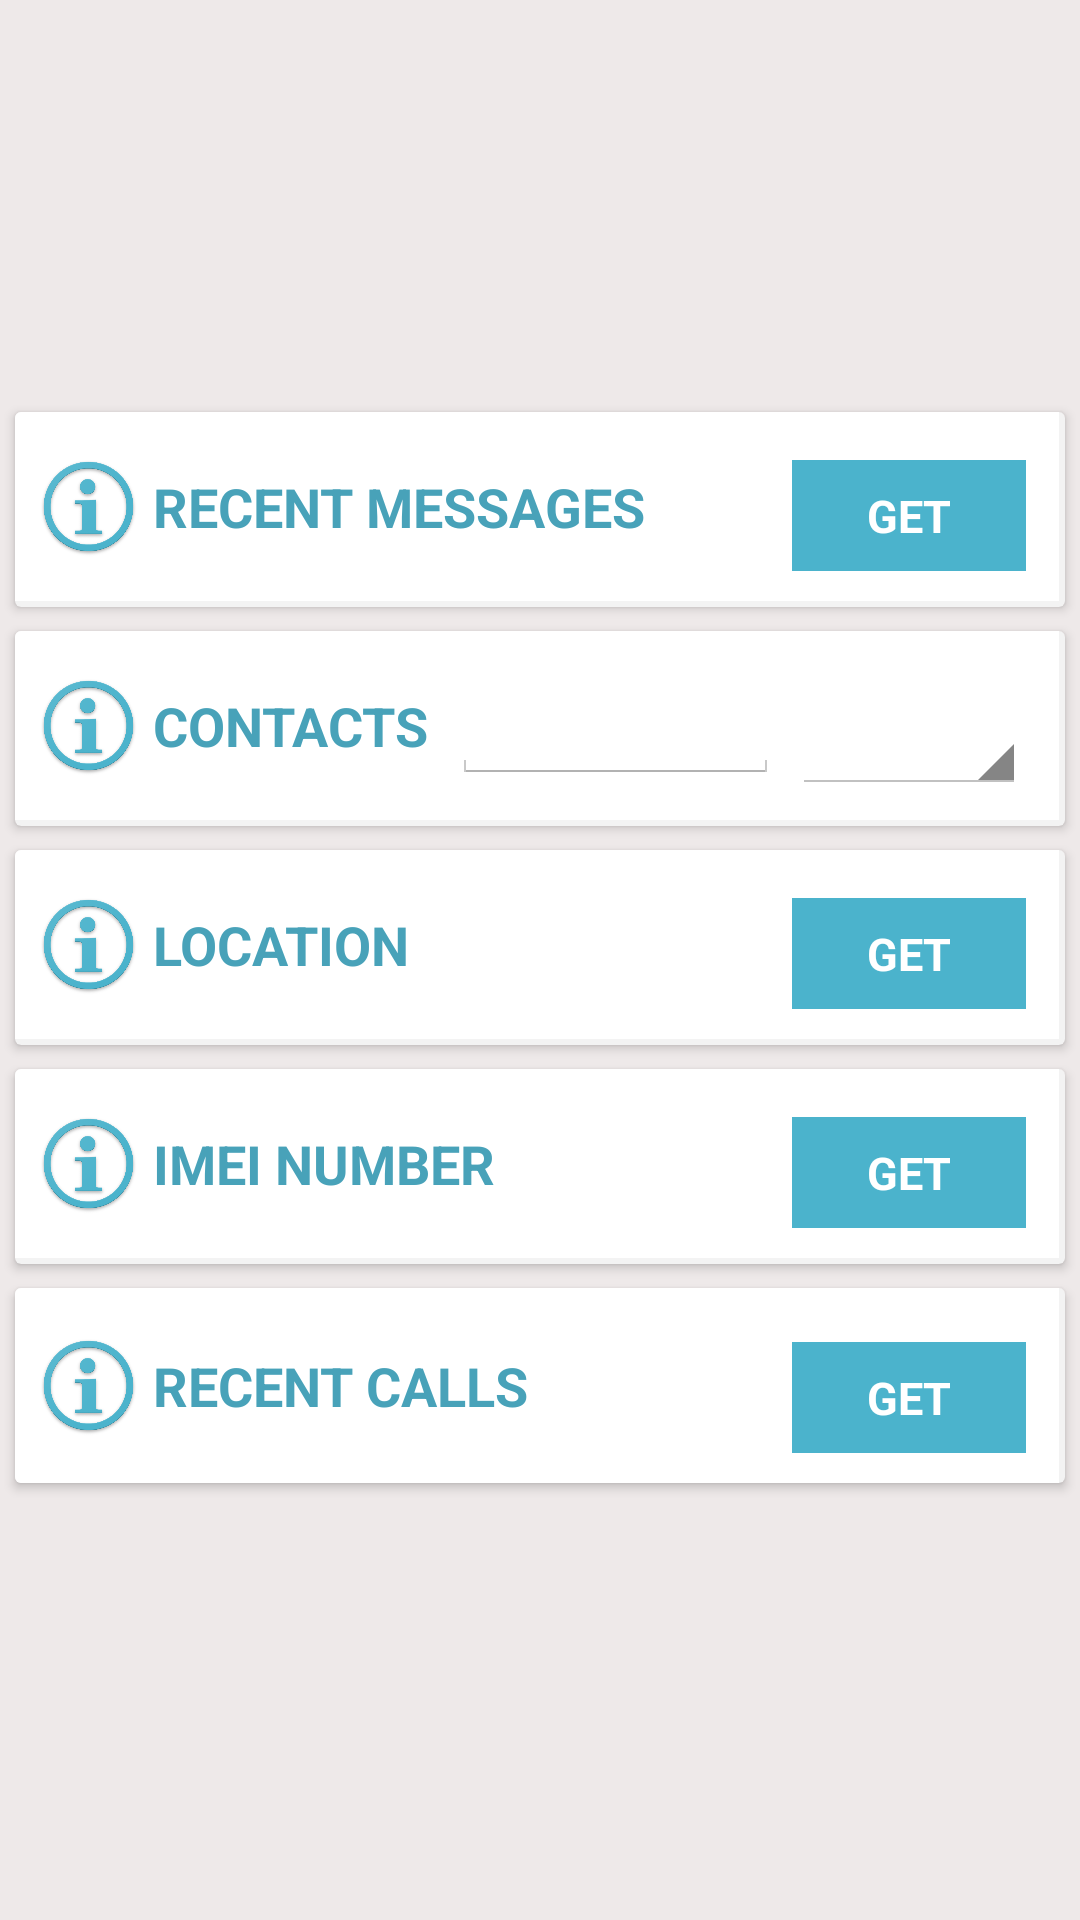

Named icons in this screenshot (1080*1920) and their bounding boxes, bbox(x1, y1, x2, y2):
info details: bbox(43, 462, 134, 554), bbox(43, 681, 134, 773), bbox(43, 900, 134, 992), bbox(43, 1119, 134, 1211), bbox(43, 1341, 134, 1433)
